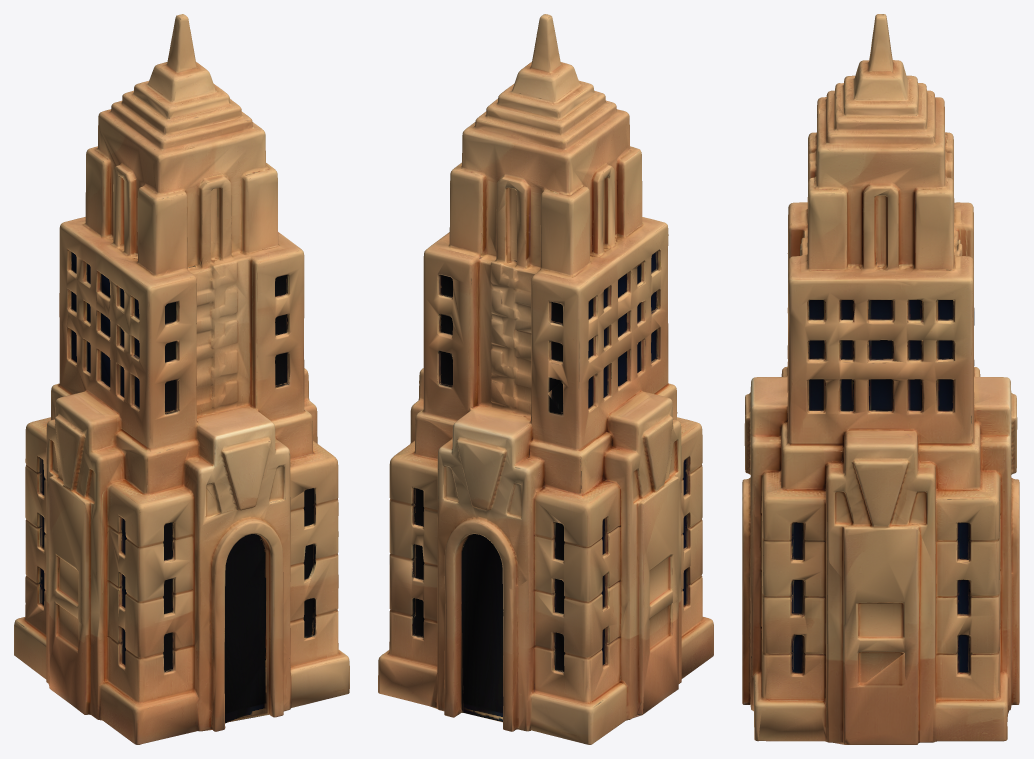
The model's file is 34959892-e727-40ba-bdc5-667a10c5b741.glb.
The picture shows the model from 3 angles, left to right: view 1: azimuth 30°, elevation 25°; view 2: azimuth 150°, elevation 25°; view 3: azimuth 270°, elevation 25°; orthographic projection. The views are drawn at different scales.
Visible parts, largest first — view 1: Mesh_0; view 2: Mesh_0; view 3: Mesh_0.
Part boxes in pixels (bbox=[...]): Mesh_0: bbox=[14, 14, 349, 744]; Mesh_0: bbox=[378, 14, 713, 744]; Mesh_0: bbox=[742, 14, 1019, 744].
Bounding box in the file's own units: 0.697 × 1.9 × 0.7099.
Materials: 1 (1 with a texture image).
